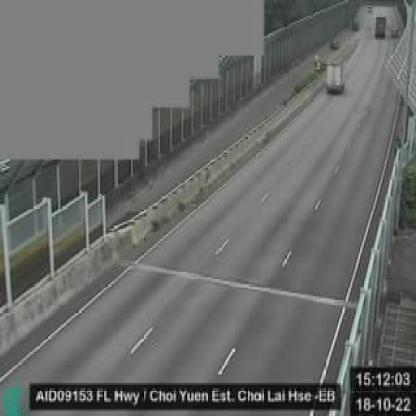Truck: (325, 58, 348, 95), (374, 14, 387, 41)
